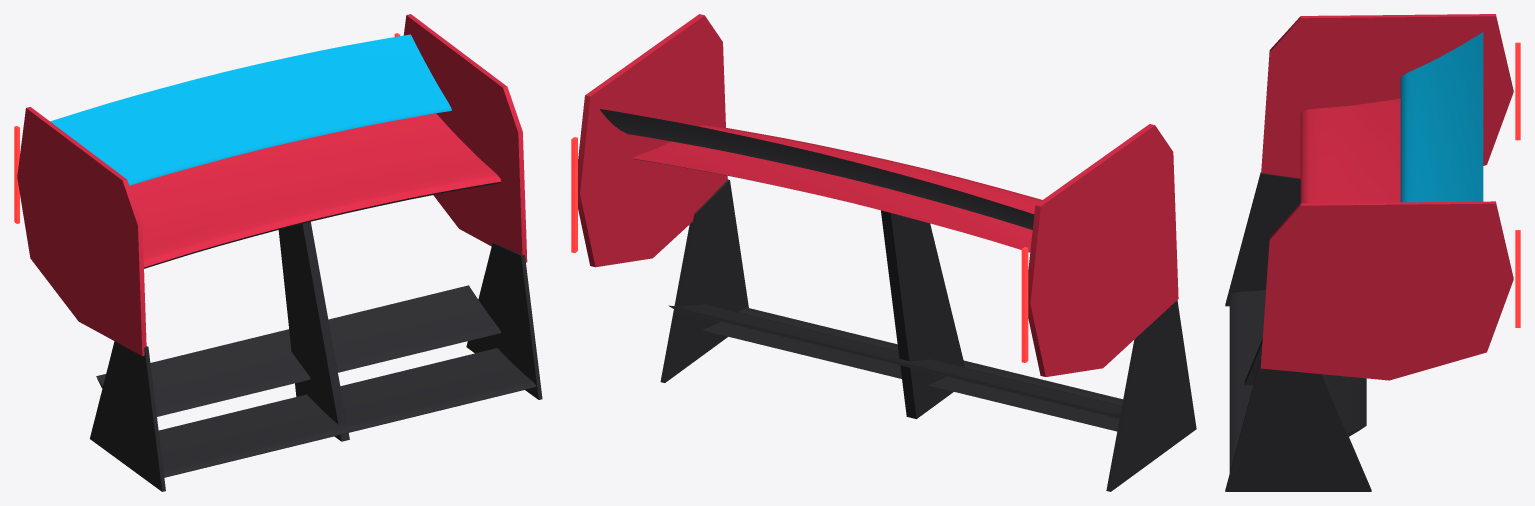
Rendered from standard.glb.
3 views of the same model, side by side, from view 1: azimuth 30°, elevation 25°; view 2: azimuth 150°, elevation 25°; view 3: azimuth 270°, elevation 25° (orthographic). The views are drawn at different scales.
Visible parts, largest first — view 1: RearWing_standard, DRSFlap_standard; view 2: RearWing_standard, DRSFlap_standard; view 3: RearWing_standard, DRSFlap_standard.
Boxes of the visible parts, <box> form: RearWing_standard: <box>14,14,542,491</box>; DRSFlap_standard: <box>50,34,451,185</box>; RearWing_standard: <box>571,14,1196,491</box>; DRSFlap_standard: <box>600,109,1034,229</box>; RearWing_standard: <box>1225,14,1520,491</box>; DRSFlap_standard: <box>1400,32,1483,202</box>.
Size of the model in its own units: 1.01 by 0.72 by 0.666.
